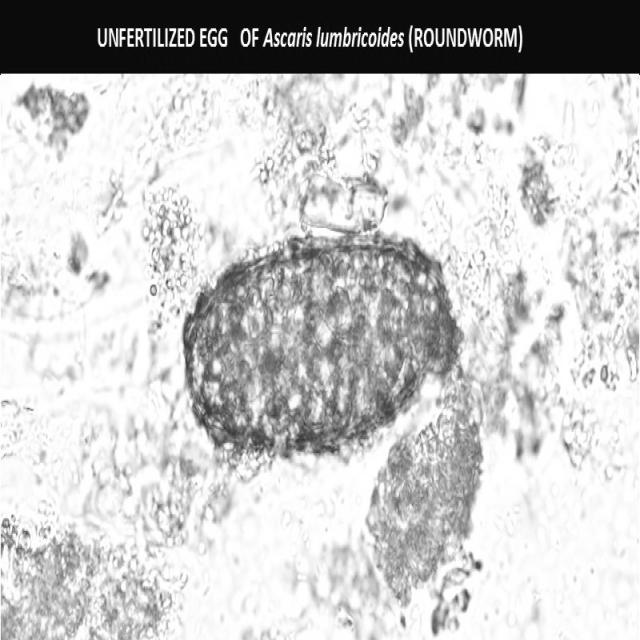Ascaris Lumbricoides: (172, 222, 462, 464)
